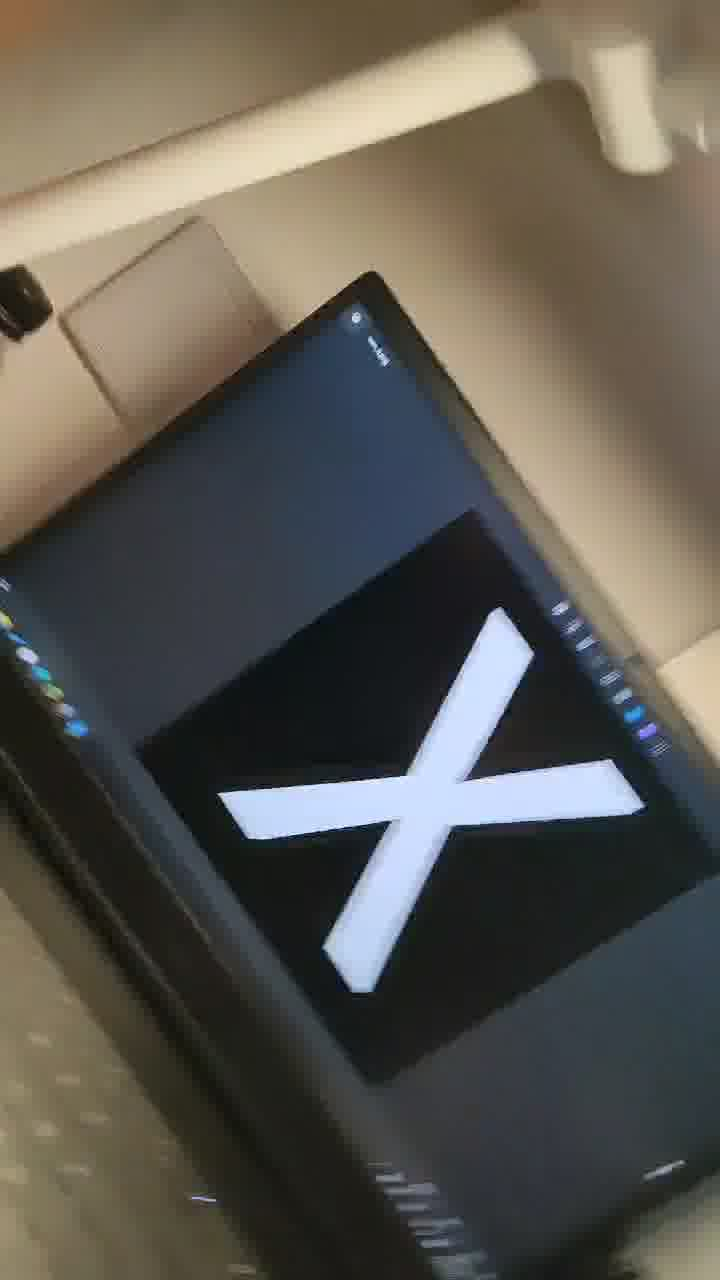X: (246, 560, 702, 1020)
